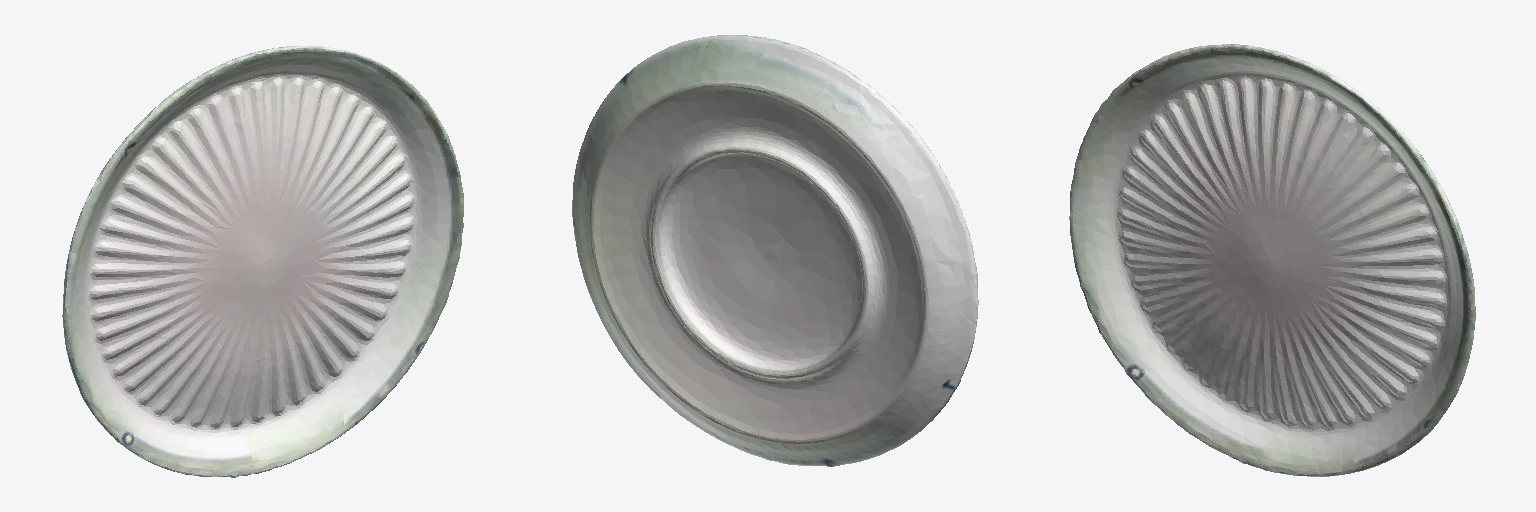
3 views of the same model, side by side, from view 1: azimuth 30°, elevation 25°; view 2: azimuth 150°, elevation 25°; view 3: azimuth 330°, elevation 25° (orthographic).
Bounding box in the file's own units: 157 × 156 × 14.32.
1 materials, 1 textured.